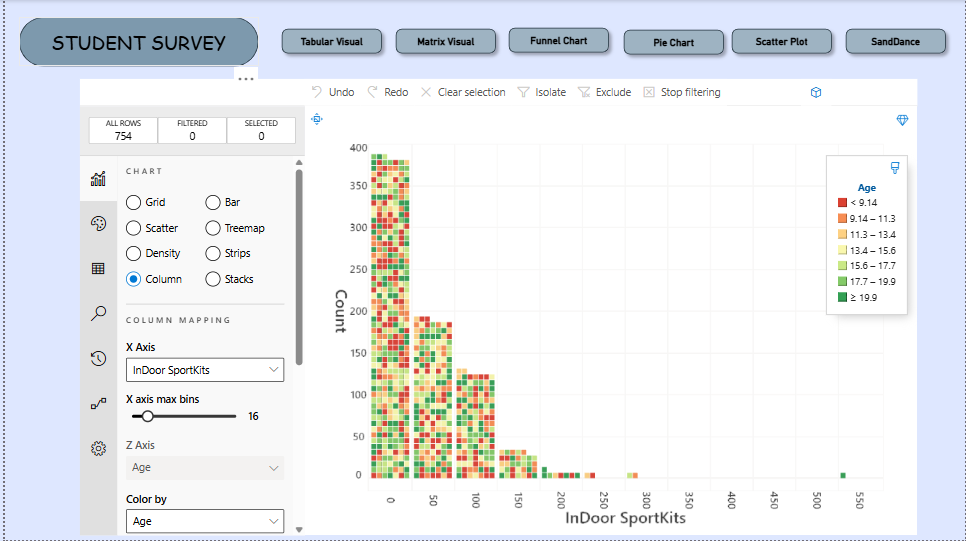

The dashboard page shown, as its layout file describes it:
{"tool":"powerbi","page":{"name":"SandDance Chart","canvas":[1280,720],"ordinal":5},"visuals":[{"type":"SandDance201929976D117A654D0BAB8E96507442D80B","fields":{"values":["Student Survey.Age","Student Survey.InDoor SportKits","Student Survey.VideoGames"]},"box":[95,100.5,1127.2,619.4],"z":0},{"type":"group","id":"g1","title":"Group 2","box":[360.6,27.5,902.9,52.3],"z":1000},{"type":"shape","box":[816.1,29.5,151.4,50.9],"z":1000,"group":"g2"},{"type":"shape","box":[19.3,22,319.3,66.1],"z":2000},{"type":"shape","box":[360.6,28.9,151.4,50.9],"z":5000,"group":"g1"},{"type":"shape","box":[960.7,28.9,151.4,50.9],"z":6000,"group":"g1"},{"type":"shape","box":[1112.1,28.9,151.4,50.9],"z":7000,"group":"g1"},{"type":"shape","box":[512,28.9,151.4,50.9],"z":8000,"group":"g1"},{"type":"shape","box":[663.4,27.5,151.4,50.9],"z":9000,"group":"g1"},{"type":"group","id":"g2","title":"Group 1","box":[816.1,29.5,151.4,50.9],"z":10000,"group":"g1"}]}

Visuals, with their boxes on the page's 1280x720 design canvas (x1, y1, x2, y2). These are canvas units, not pixel positions in the 966x541 screenshot, which may show the page scaled, cropped or inside an application window:
SandDance201929976D117A654D0BAB8E96507442D80B - Student Survey.Age x Student Survey.InDoor SportKits: <region>95, 100, 1222, 720</region>
"Group 2" group: <region>361, 28, 1264, 80</region>
shape: <region>816, 30, 968, 80</region>
shape: <region>19, 22, 339, 88</region>
shape: <region>361, 29, 512, 80</region>
shape: <region>961, 29, 1112, 80</region>
shape: <region>1112, 29, 1264, 80</region>
shape: <region>512, 29, 663, 80</region>
shape: <region>663, 28, 815, 78</region>
"Group 1" group: <region>816, 30, 968, 80</region>
